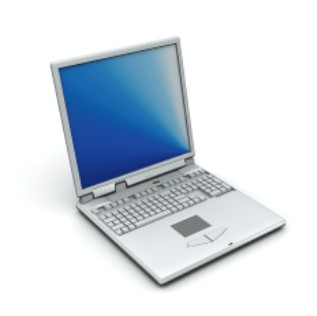Laptop: (47, 31, 292, 289)
